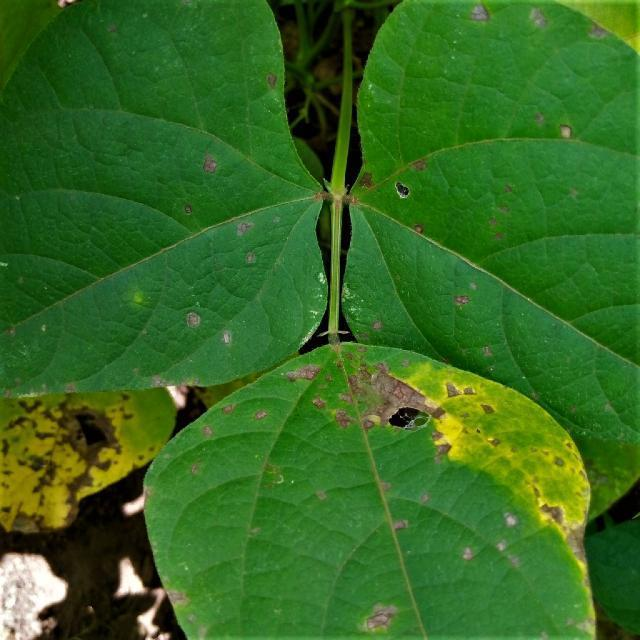hawar: (261, 330, 618, 581), (117, 103, 332, 375), (359, 132, 590, 334)
